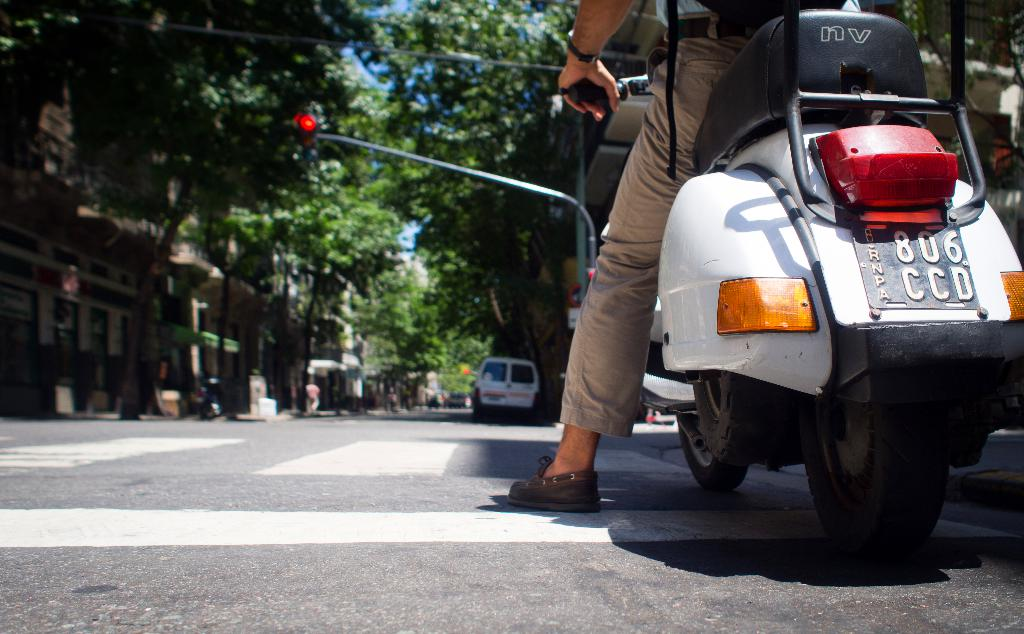Car: (463, 357, 540, 425)
